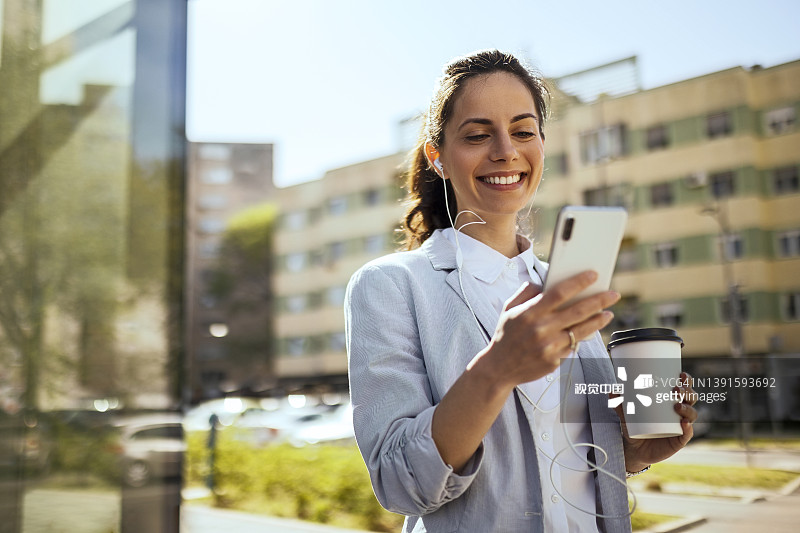reading: (472, 215, 626, 394)
